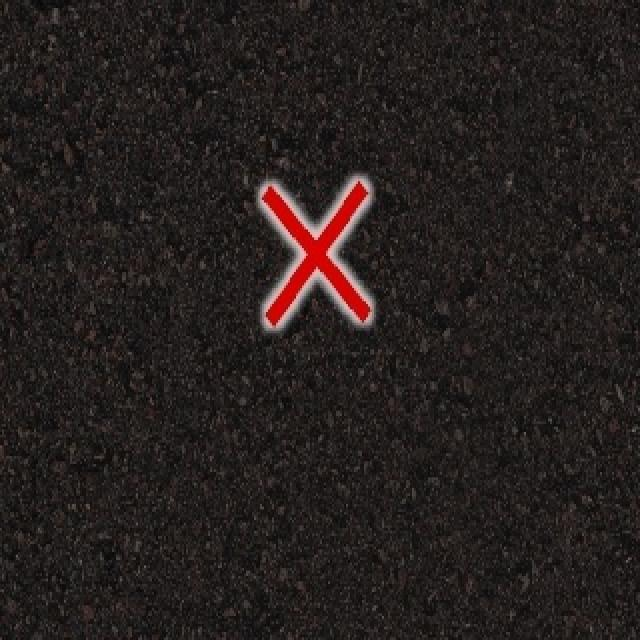x_marker: (261, 180, 369, 324)
